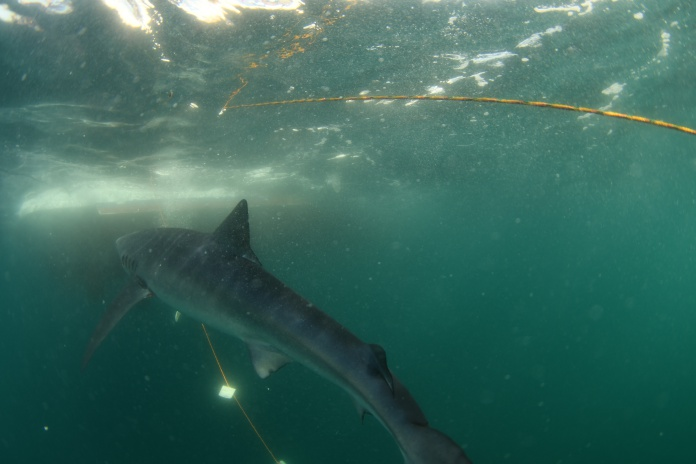Azul: (83, 188, 469, 464)
